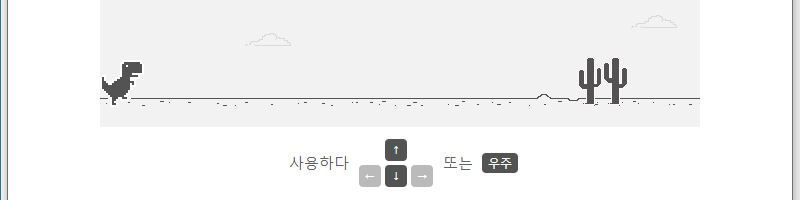dinosaur: (100, 61, 143, 107)
obstacle: (577, 55, 634, 106)
